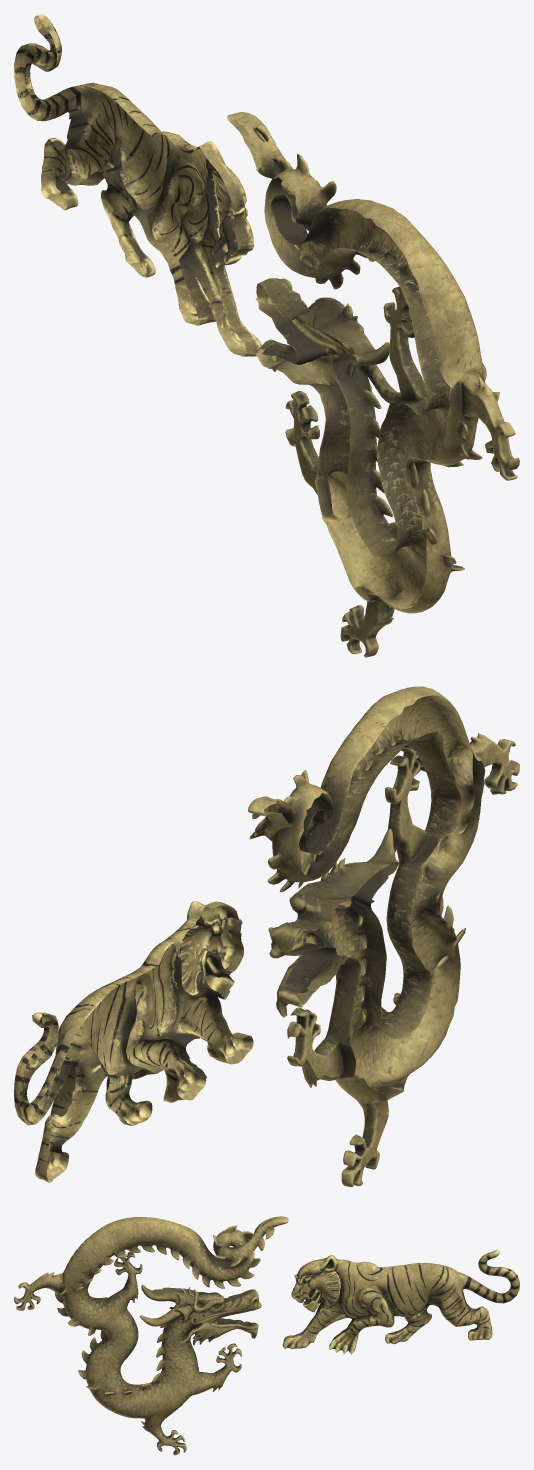
Rendered from SM_CarvedWallDragon.fbx.
The picture shows the model from 3 angles, top to bottom: view 1: azimuth 30°, elevation 25°; view 2: azimuth 150°, elevation 25°; view 3: azimuth 270°, elevation 25°; orthographic projection. The views are drawn at different scales.
Parts seen in each view (by area): view 1: SM_CarvedWallDragon_LOD0; view 2: SM_CarvedWallDragon_LOD0; view 3: SM_CarvedWallDragon_LOD0.
Boxes of the visible parts, <box> form: SM_CarvedWallDragon_LOD0: <box>14,14,519,657</box>; SM_CarvedWallDragon_LOD0: <box>14,686,519,1187</box>; SM_CarvedWallDragon_LOD0: <box>14,1216,519,1455</box>.
Bounding box in the file's own units: 34.99 × 519 × 266.
